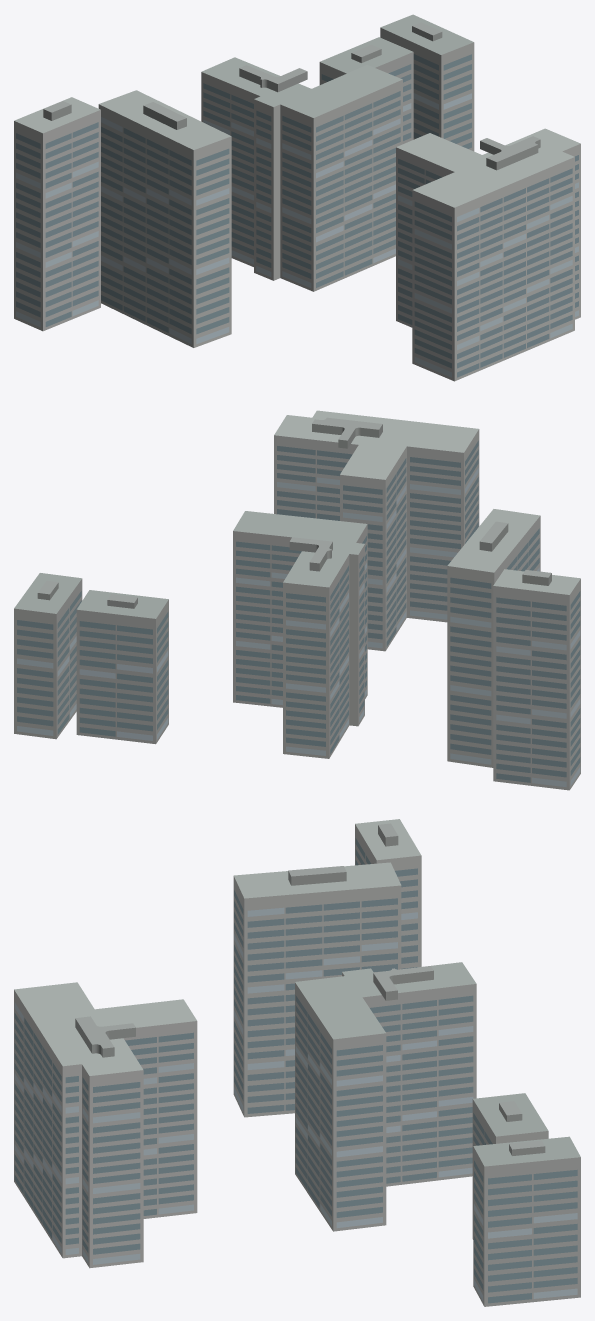
The model's file is apt-a13509004.glb.
The picture shows the model from 3 angles, top to bottom: view 1: azimuth 30°, elevation 25°; view 2: azimuth 150°, elevation 25°; view 3: azimuth 270°, elevation 25°; orthographic projection. The views are drawn at different scales.
Visible parts, largest first — view 1: apt-a13509004; view 2: apt-a13509004; view 3: apt-a13509004.
Boxes of the visible parts, bbox=[...] form: apt-a13509004: bbox=[14, 14, 580, 381]; apt-a13509004: bbox=[14, 410, 580, 790]; apt-a13509004: bbox=[14, 819, 580, 1306].
Size of the model in its own units: 149 by 59 by 133.
